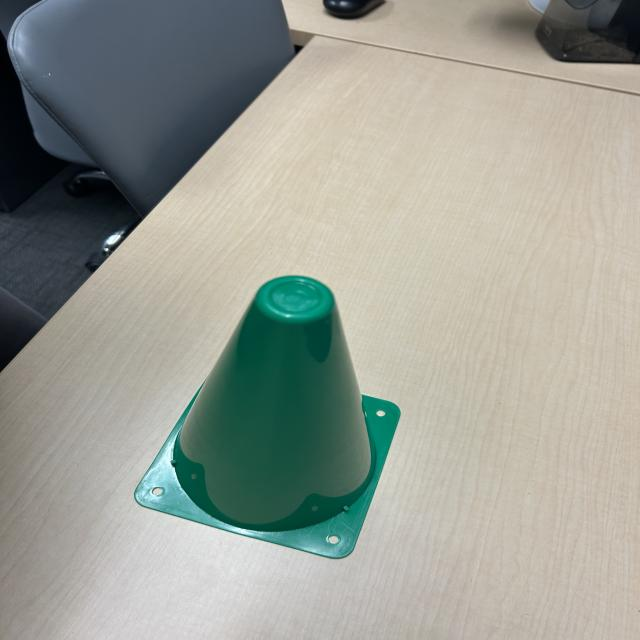green cone: (117, 270, 408, 566)
